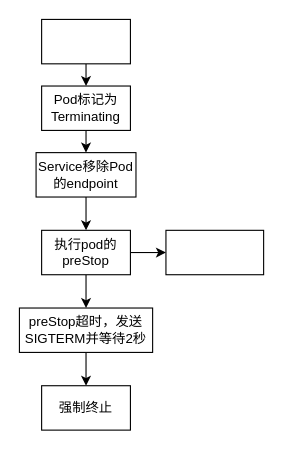
Some shapes in this 283 by 450 pixel diagram are drawn without their labels. Each missing label, with the centre of its shape:
"删除pod命令" goes at point 85,41.
"正常终止" goes at point 214,252.
